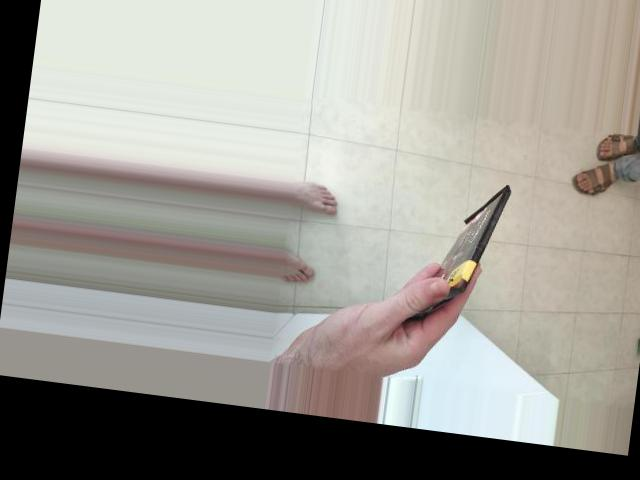chocolate: (433, 150, 597, 263)
